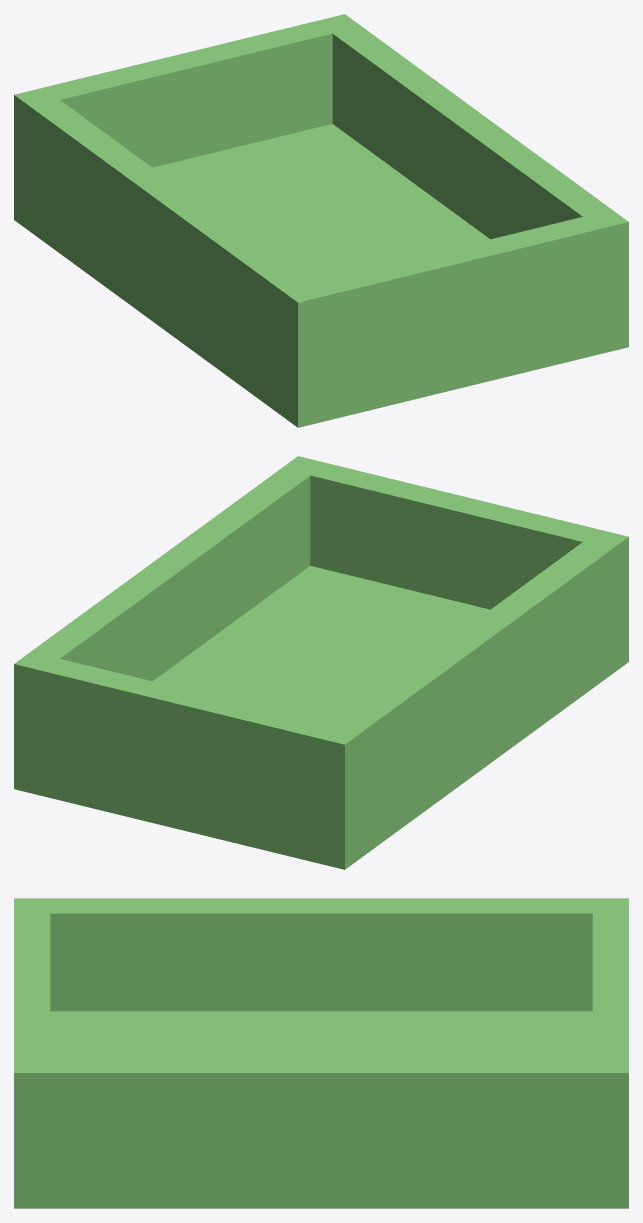
File: SmallBox.fbx
3 views of the same model, one above another, from view 1: azimuth 30°, elevation 25°; view 2: azimuth 150°, elevation 25°; view 3: azimuth 270°, elevation 25° (orthographic). The views are drawn at different scales.
Parts seen in each view (by area): view 1: SmallBox; view 2: SmallBox; view 3: SmallBox.
Part boxes in pixels (left/top/right/bottom): SmallBox: left=14, top=14, right=628, bottom=427; SmallBox: left=14, top=456, right=628, bottom=869; SmallBox: left=14, top=898, right=628, bottom=1208.
Bounding box in the file's own units: 42.92 × 15.51 × 63.83.
